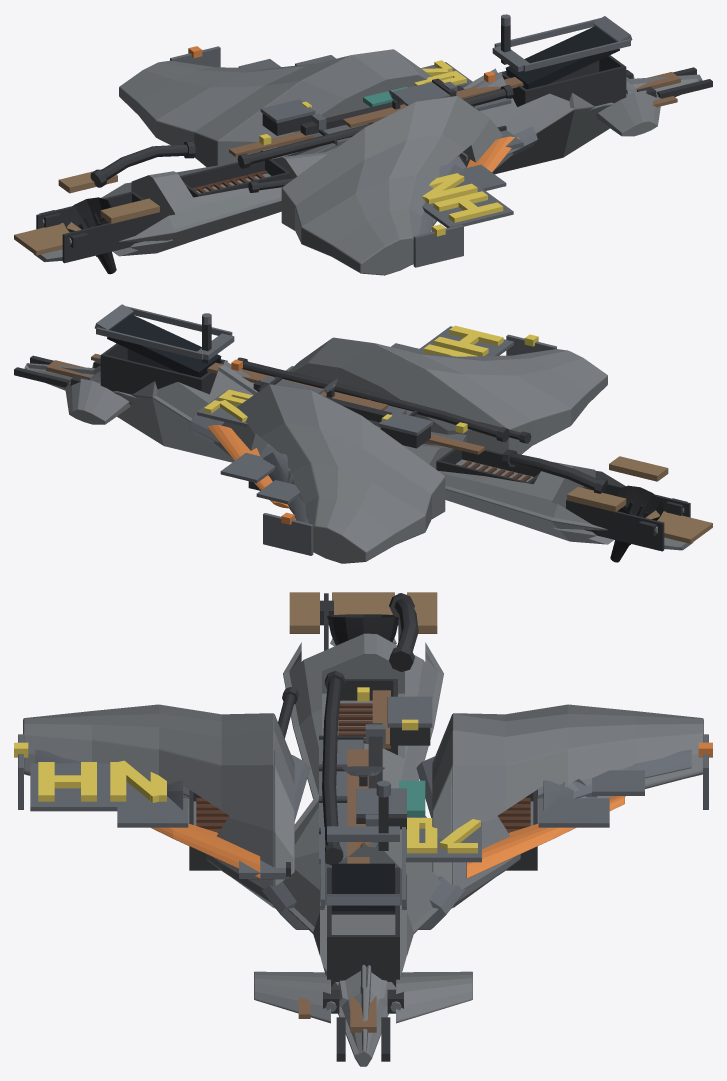
File: hornet_production_v1.glb
The picture shows the model from 3 angles, top to bottom: view 1: azimuth 30°, elevation 25°; view 2: azimuth 150°, elevation 25°; view 3: azimuth 270°, elevation 25°; orthographic projection. The views are drawn at different scales.
Parts seen in each view (by area): view 1: LOD0_Hull, LOD0_Wing_Port, LOD0_AntennaMast, LOD0_Wing_Stbd, LOD0_AntennaTip, LOD0_Beacon_Aft, LOD0_DirtTE_Port, LOD0_Glass, LOD0_DirtCanard, LOD0_Canard_Port, LOD0_Bell, LOD0_Accent_Port (+1 smaller); view 2: LOD0_Hull, LOD0_Wing_Stbd, LOD0_AntennaMast, LOD0_Wing_Port, LOD0_AntennaTip, LOD0_DirtTE_Port, LOD0_Glass, LOD0_Beacon_Aft, LOD0_Canard_Stbd, LOD0_DirtCanard, LOD0_Bell, LOD0_Accent_Port; view 3: LOD0_Hull, LOD0_Wing_Stbd, LOD0_AntennaTip, LOD0_Wing_Port, LOD0_AntennaMast, LOD0_Beacon_Aft, LOD0_Accent_Port, LOD0_DirtTE_Port, LOD0_DirtCanard, LOD0_Canard_Stbd, LOD0_Canard_Port, LOD0_RadiatorFin_Dorsal_0 (+3 smaller).
Part boxes in pixels (x1=…): LOD0_Hull: x1=34, y1=49, x2=702, y2=261; LOD0_Wing_Port: x1=281, y1=96, x2=512, y2=275; LOD0_AntennaMast: x1=36, y1=24, x2=712, y2=263; LOD0_Wing_Stbd: x1=119, y1=49, x2=393, y2=167; LOD0_AntennaTip: x1=170, y1=14, x2=632, y2=267; LOD0_Beacon_Aft: x1=259, y1=60, x2=503, y2=236; LOD0_DirtTE_Port: x1=14, y1=169, x2=159, y2=255; LOD0_Glass: x1=505, y1=26, x2=619, y2=89; LOD0_DirtCanard: x1=229, y1=72, x2=680, y2=157; LOD0_Canard_Port: x1=596, y1=90, x2=660, y2=136; LOD0_Bell: x1=63, y1=197, x2=116, y2=274; LOD0_Accent_Port: x1=188, y1=46, x2=519, y2=172; LOD0_Hull: x1=24, y1=338, x2=693, y2=550; LOD0_Wing_Stbd: x1=214, y1=384, x2=445, y2=563; LOD0_AntennaMast: x1=14, y1=323, x2=690, y2=551; LOD0_Wing_Port: x1=333, y1=337, x2=607, y2=454; LOD0_AntennaTip: x1=94, y1=304, x2=556, y2=555; LOD0_DirtTE_Port: x1=567, y1=456, x2=712, y2=543; LOD0_Glass: x1=107, y1=314, x2=221, y2=377; LOD0_Beacon_Aft: x1=204, y1=325, x2=538, y2=433; LOD0_Canard_Stbd: x1=65, y1=378, x2=130, y2=424; LOD0_DirtCanard: x1=46, y1=353, x2=484, y2=454; LOD0_Bell: x1=610, y1=485, x2=663, y2=562; LOD0_Accent_Port: x1=207, y1=359, x2=294, y2=524; LOD0_Hull: x1=261, y1=633, x2=465, y2=1066; LOD0_Wing_Stbd: x1=452, y1=704, x2=703, y2=907; LOD0_AntennaTip: x1=18, y1=696, x2=708, y2=907; LOD0_Wing_Port: x1=23, y1=704, x2=274, y2=907; LOD0_AntennaMast: x1=189, y1=593, x2=537, y2=1061; LOD0_Beacon_Aft: x1=14, y1=687, x2=480, y2=853; LOD0_Accent_Port: x1=151, y1=742, x2=712, y2=878; LOD0_DirtTE_Port: x1=289, y1=592, x2=437, y2=633; LOD0_DirtCanard: x1=298, y1=690, x2=390, y2=1032; LOD0_Canard_Stbd: x1=396, y1=971, x2=472, y2=1023; LOD0_Canard_Port: x1=254, y1=971, x2=330, y2=1023; LOD0_RadiatorFin_Dorsal_0: x1=196, y1=703, x2=530, y2=832.
Size of what is drawn, in the model's own units: 10.88 by 2.35 by 6.9.
